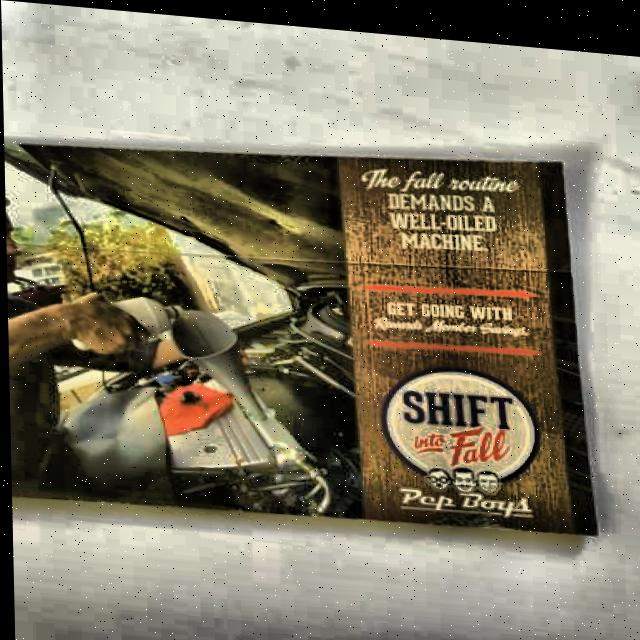paper: (2, 112, 604, 553)
